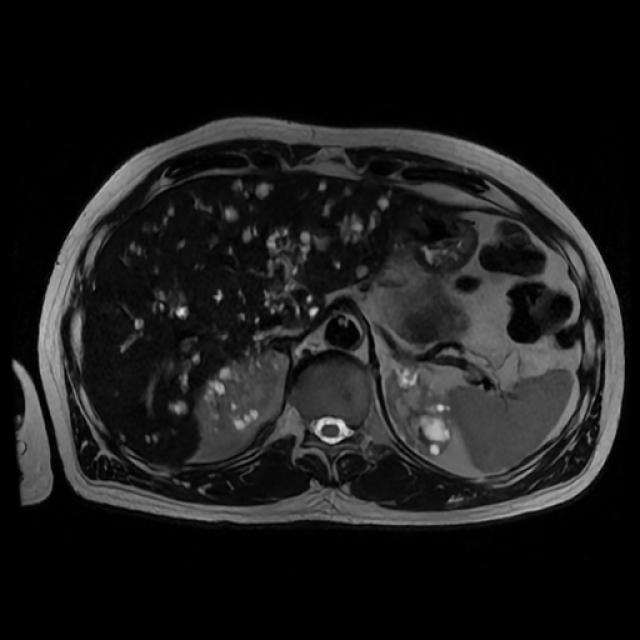sag: (195, 358, 281, 444)
sol: (383, 363, 457, 459)
